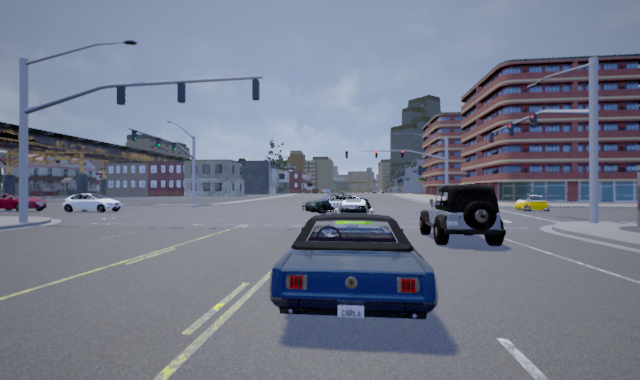traffic_light: (528, 113, 539, 130), (506, 121, 516, 138), (131, 128, 138, 143), (171, 140, 178, 153), (155, 135, 161, 149), (400, 148, 405, 161), (374, 150, 379, 160)
vehicle: (269, 211, 438, 320), (418, 184, 505, 246), (330, 198, 376, 243), (298, 191, 371, 215), (62, 193, 123, 214), (1, 192, 53, 212), (512, 195, 551, 213)
